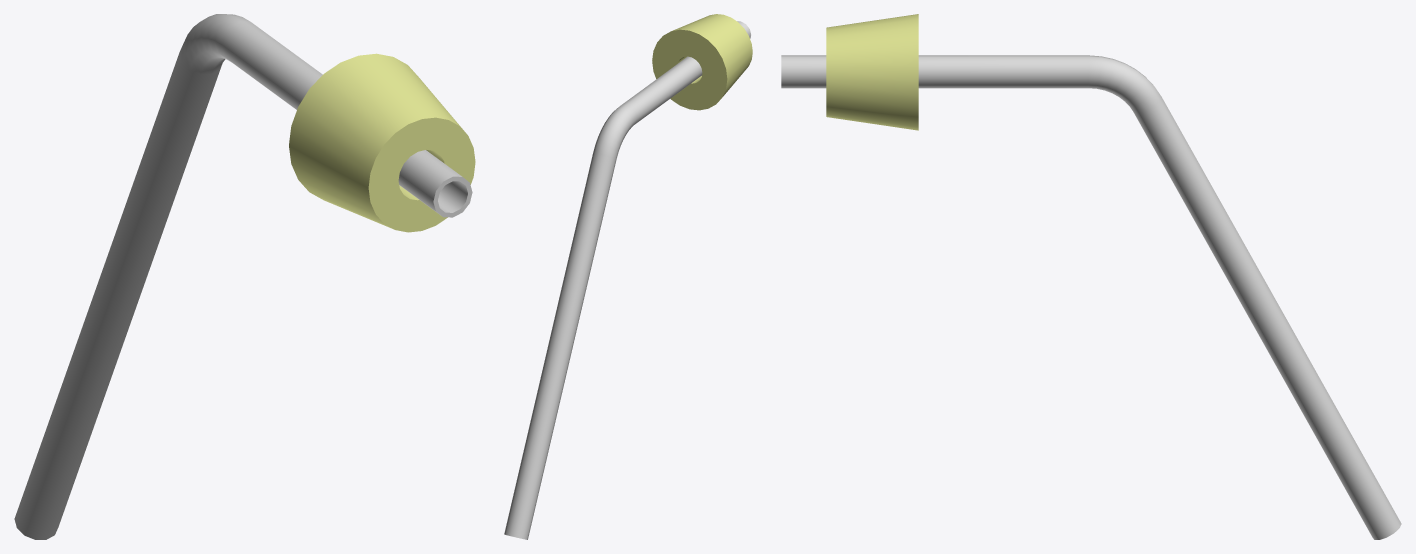
3 views of the same model, side by side, from view 1: azimuth 30°, elevation 25°; view 2: azimuth 150°, elevation 25°; view 3: azimuth 270°, elevation 25° (orthographic). The views are drawn at different scales.
Visible parts, largest first — view 1: Line003, 模型\胶塞; view 2: Line003, 模型\胶塞; view 3: Line003, 模型\胶塞.
Boxes of the visible parts, <box> form: Line003: <box>14,14,472,539</box>; 模型\胶塞: <box>289,53,475,232</box>; Line003: <box>504,21,750,539</box>; 模型\胶塞: <box>652,14,752,110</box>; Line003: <box>781,55,1401,539</box>; 模型\胶塞: <box>826,14,918,130</box>.
Size of the model in its own units: 1.57 by 7.65 by 8.3.
